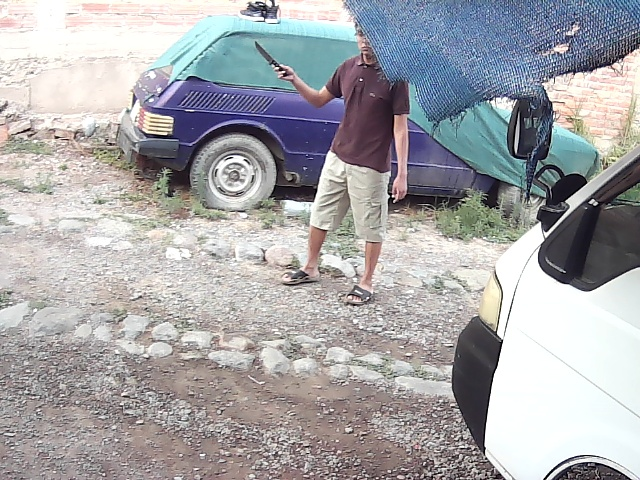cuchillo: (249, 33, 283, 72)
